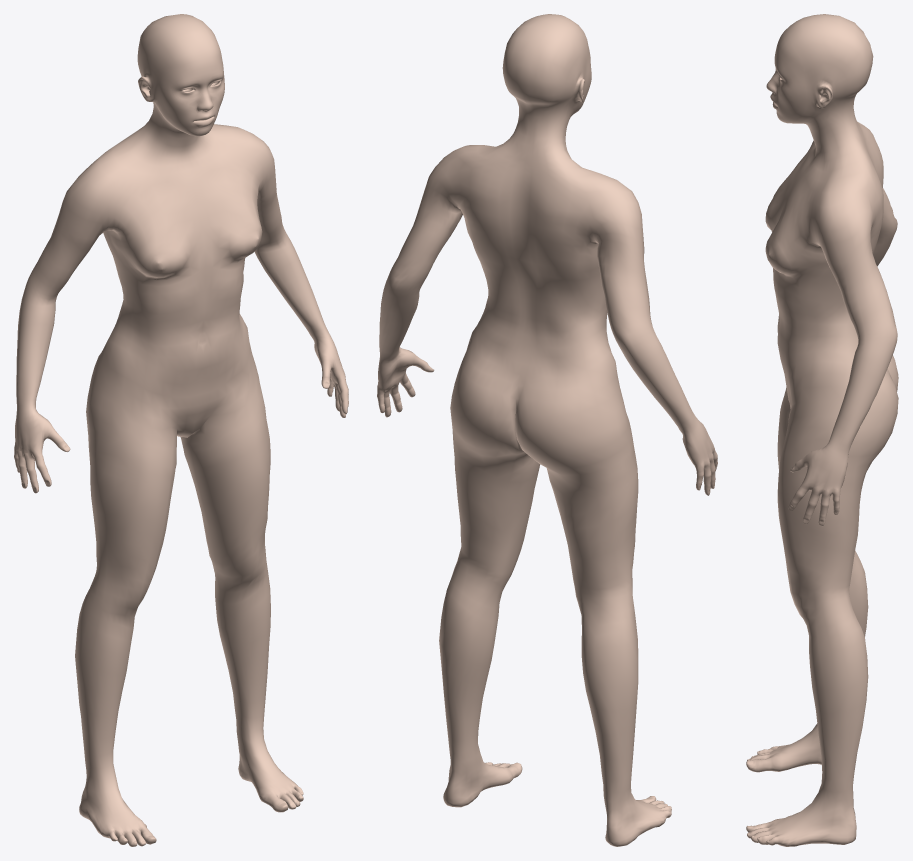
Rendered from uniqo-body.glb.
The picture shows the model from 3 angles, left to right: view 1: azimuth 30°, elevation 25°; view 2: azimuth 150°, elevation 25°; view 3: azimuth 270°, elevation 25°; orthographic projection.
Visible parts, largest first — view 1: UniqoBody; view 2: UniqoBody; view 3: UniqoBody.
Part boxes in pixels (left/top/right/bottom): UniqoBody: left=14, top=14, right=348, bottom=846; UniqoBody: left=377, top=14, right=717, bottom=846; UniqoBody: left=746, top=14, right=898, bottom=846.
Bounding box in the file's own units: 0.6701 × 1.55 × 0.2727.
